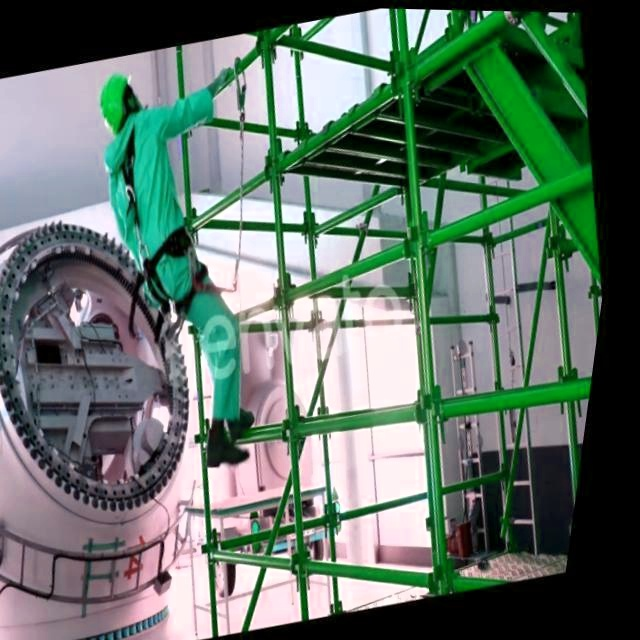safety belt: (62, 145, 221, 345)
